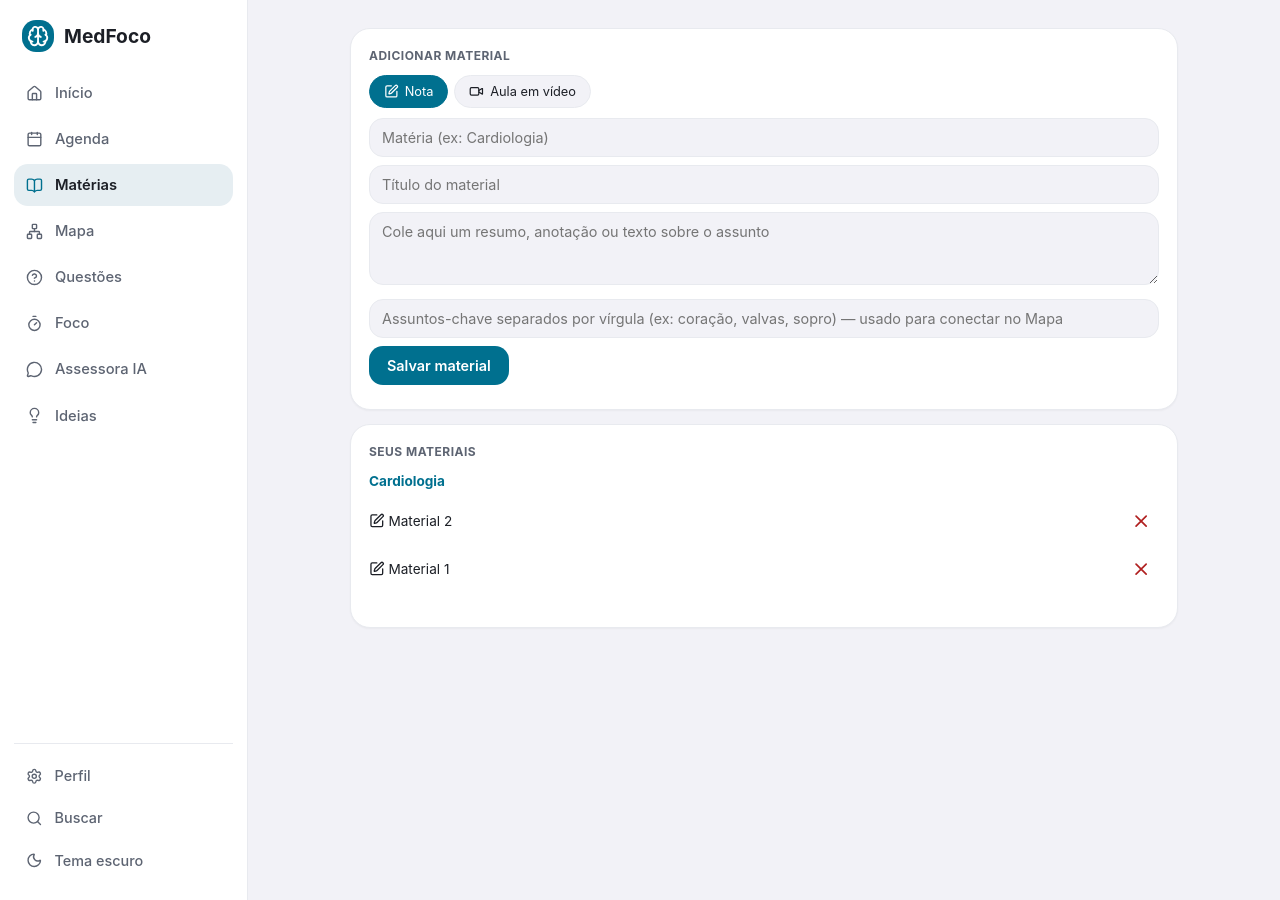
Test: Matérias › exclusão › confirmar exclui e leva o foco ao título da lista
Step 1. Click the button named "Excluir material Material 1" → click(1141, 569), box [1123, 551, 1159, 587]
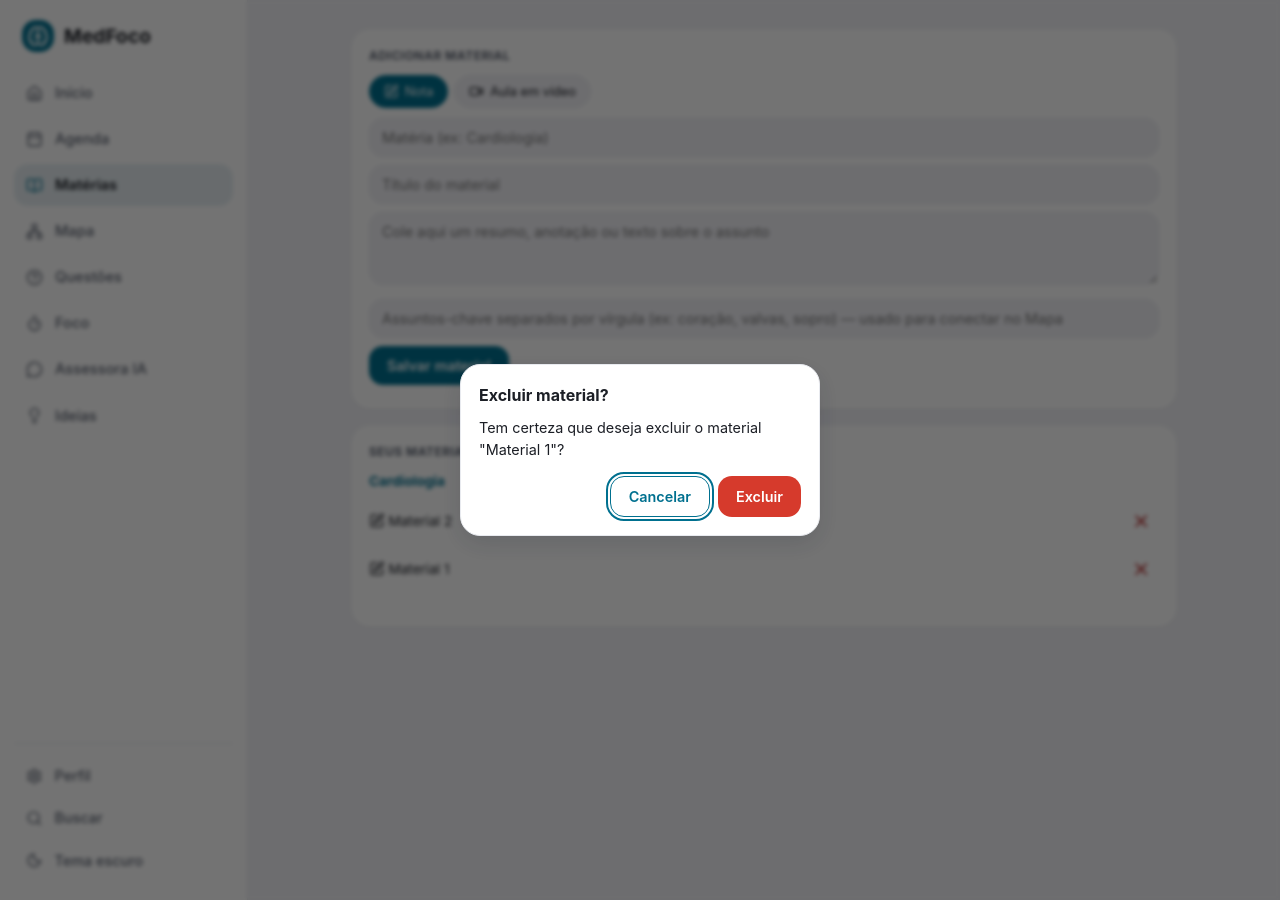
Step 2. Click the button "Excluir" → click(760, 497), box [718, 476, 801, 517]
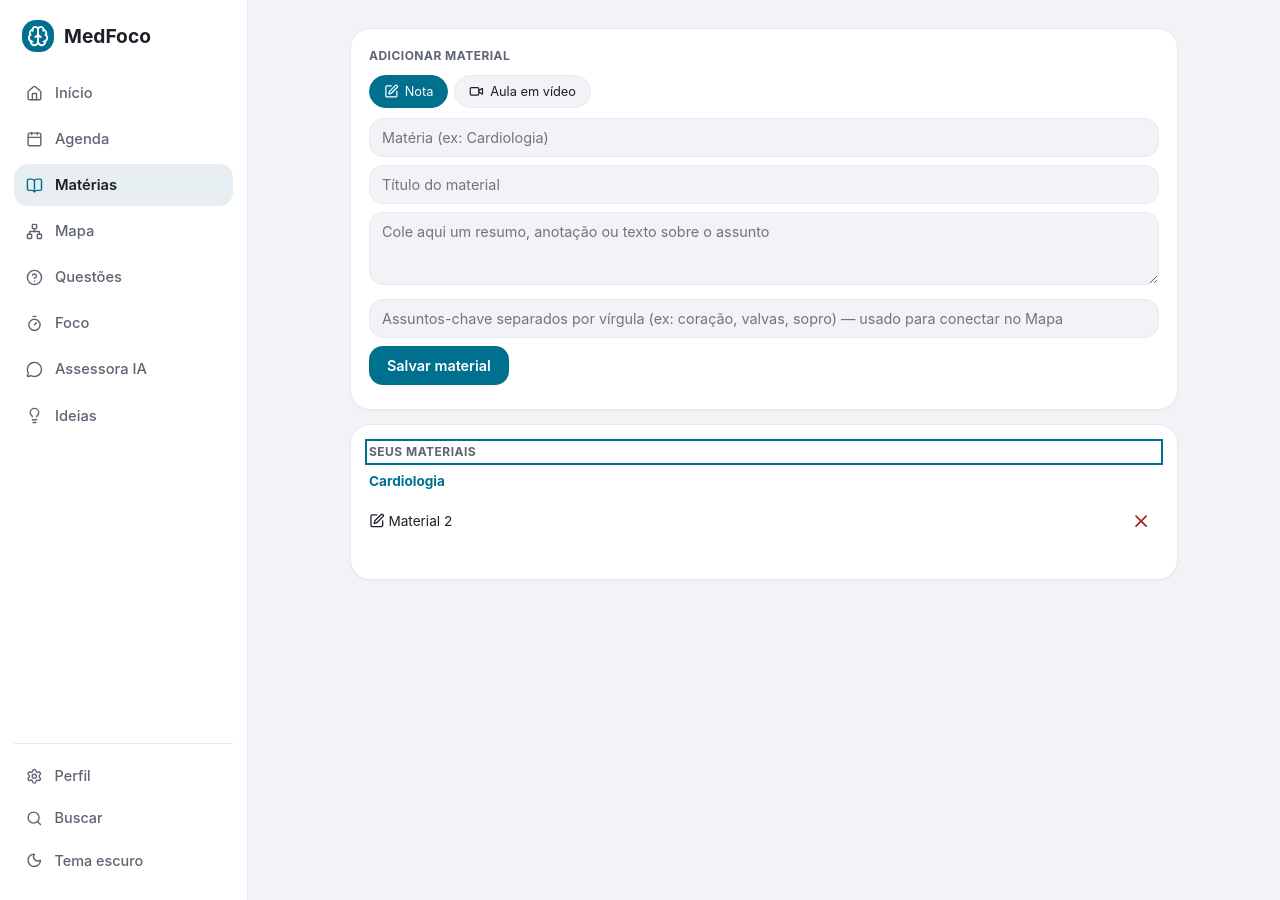
Now the text "Material 1" is gone
